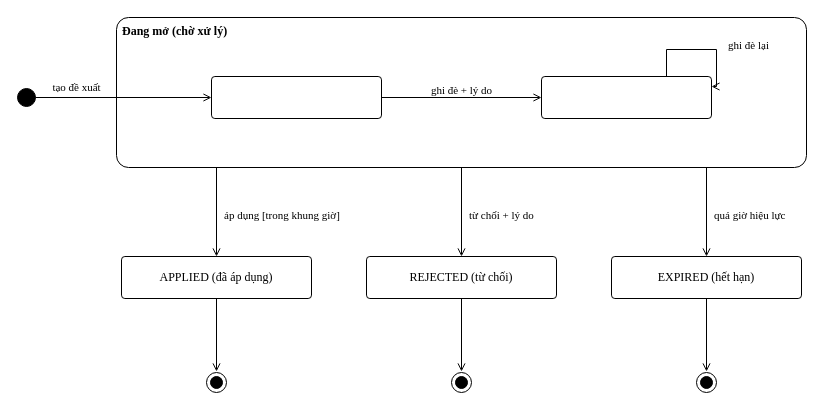
This 824x410 diagram has some shape labels left out. Here are the shapes that lost their labels. From the top down, the centre of each, then its label:
[296,97]: PROPOSED
[626,97]: OVERRIDDEN
